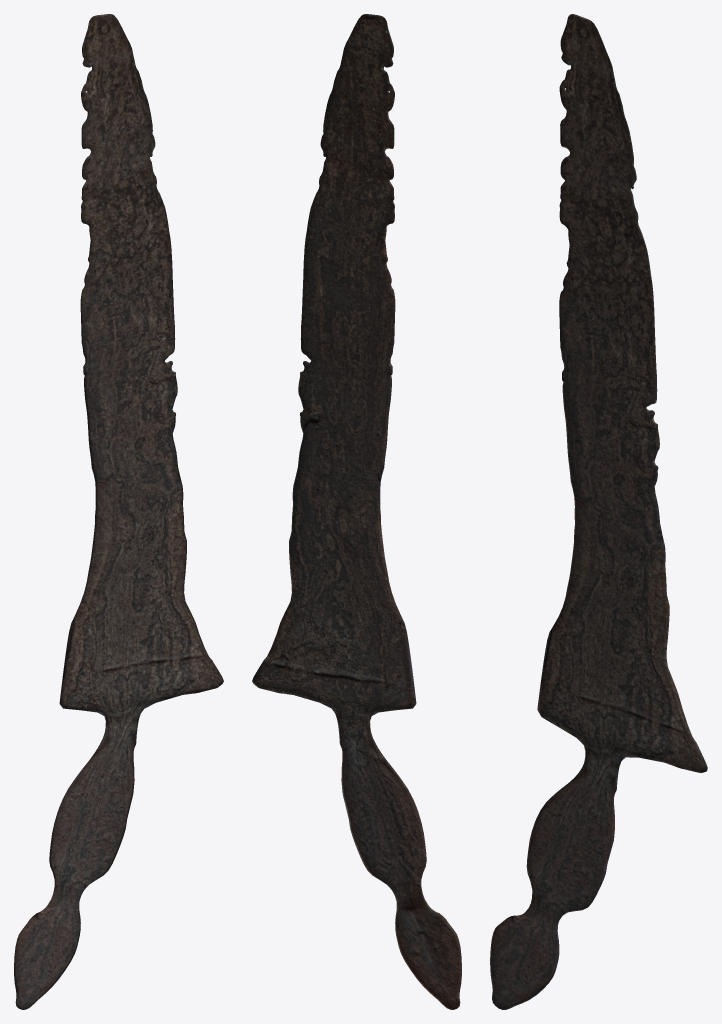
Rendered from mkn05_high.glb.
3 renders of one model, left to right at view 1: azimuth 30°, elevation 25°; view 2: azimuth 150°, elevation 25°; view 3: azimuth 330°, elevation 25°, orthographic. The views are drawn at different scales.
Parts seen in each view (by area): view 1: mkn05_Sajen; view 2: mkn05_Sajen; view 3: mkn05_Sajen.
Part boxes in pixels (x1,y1,x2,y2): mkn05_Sajen: (14, 14, 223, 1009); mkn05_Sajen: (252, 14, 461, 1009); mkn05_Sajen: (490, 14, 707, 1009).
Bounding box in the file's own units: 0.4917 × 2.19 × 0.0195.
Materials: 1 (1 with a texture image).
